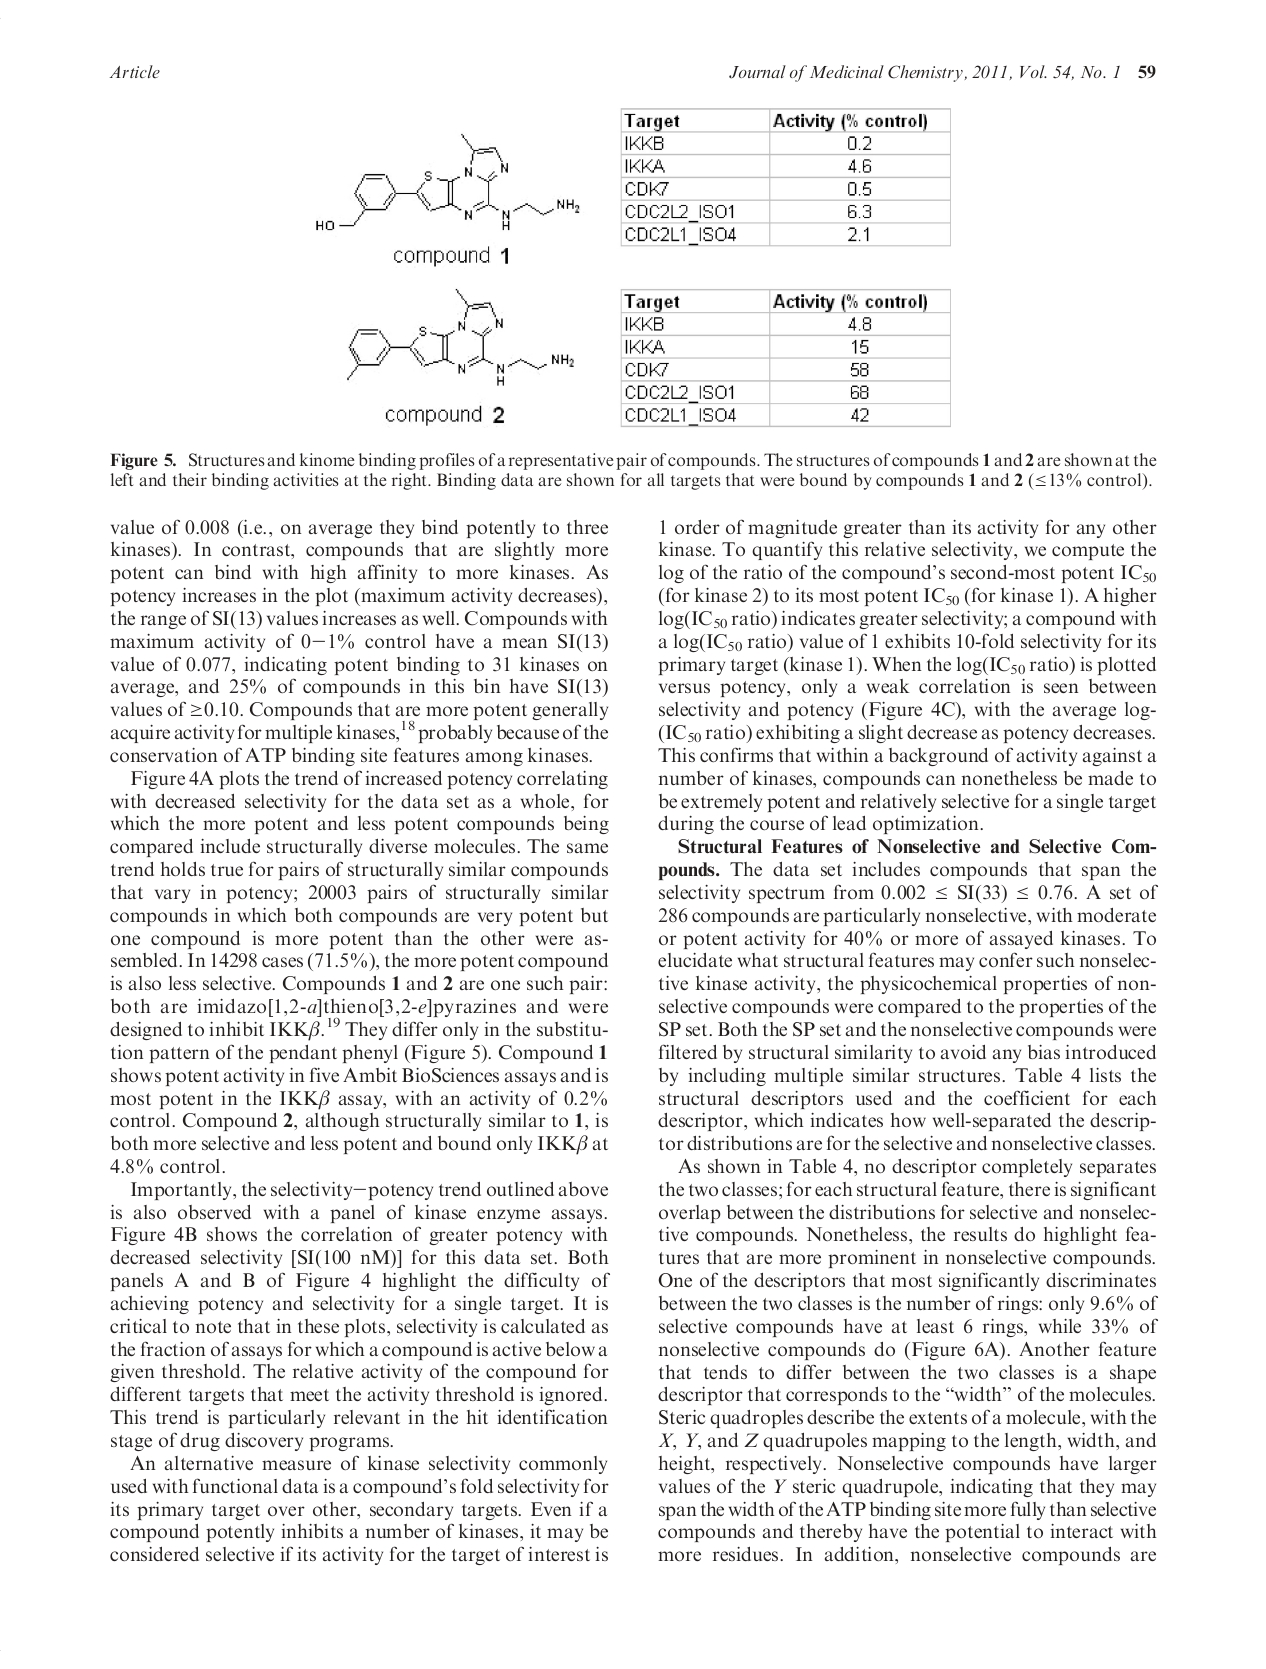exist_molecular: (313, 130, 586, 235), (340, 287, 582, 392)
